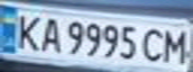5: (118, 22, 142, 61)
9: (60, 17, 87, 56), (81, 20, 103, 58), (100, 21, 121, 60)
A: (36, 15, 63, 53)
C: (139, 25, 169, 63)
K: (9, 11, 45, 52)
M: (160, 26, 193, 65)
